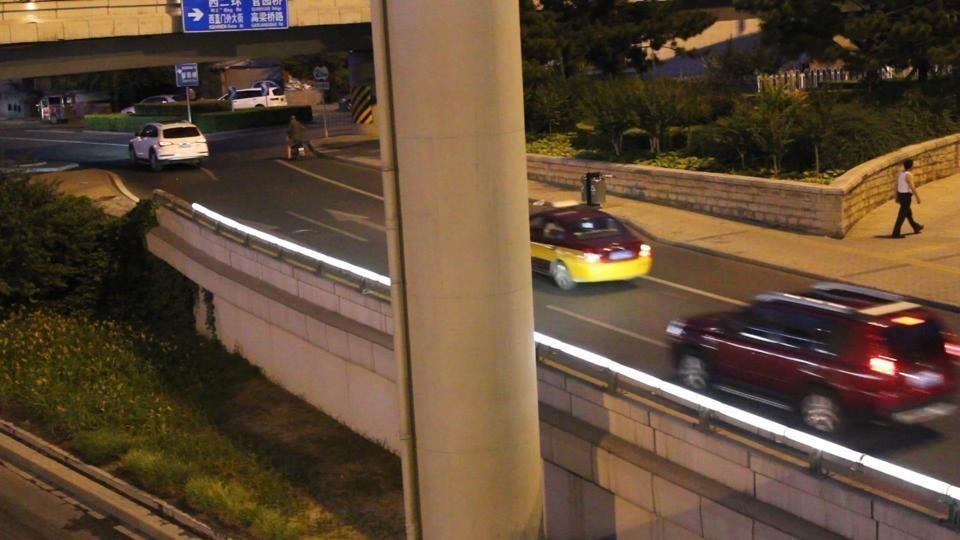car: (664, 281, 952, 436), (529, 199, 654, 291), (127, 121, 210, 171), (221, 83, 286, 109), (38, 96, 76, 123)
